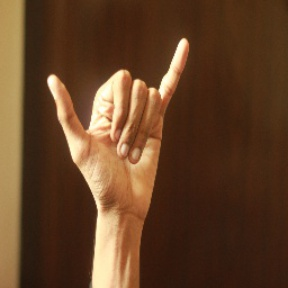J: (43, 37, 191, 200)
